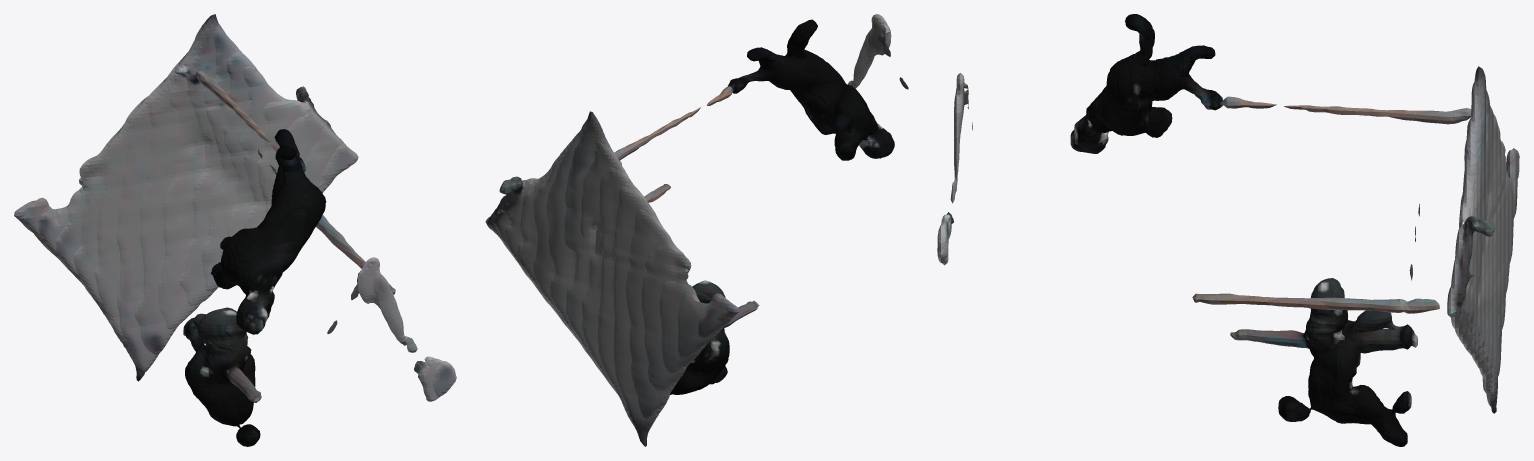
Rendered from manifested_artifact.glb.
The picture shows the model from 3 angles, left to right: view 1: azimuth 30°, elevation 25°; view 2: azimuth 150°, elevation 25°; view 3: azimuth 270°, elevation 25°; orthographic projection. The views are drawn at different scales.
Visible parts, largest first — view 1: mesh; view 2: mesh; view 3: mesh.
Part boxes in pixels (left/top/right/bottom): mesh: left=14, top=14, right=456, bottom=446; mesh: left=485, top=14, right=908, bottom=446; mesh: left=937, top=14, right=1519, bottom=446.
Bounding box in the file's own units: 0.9423 × 1.06 × 1.4.
